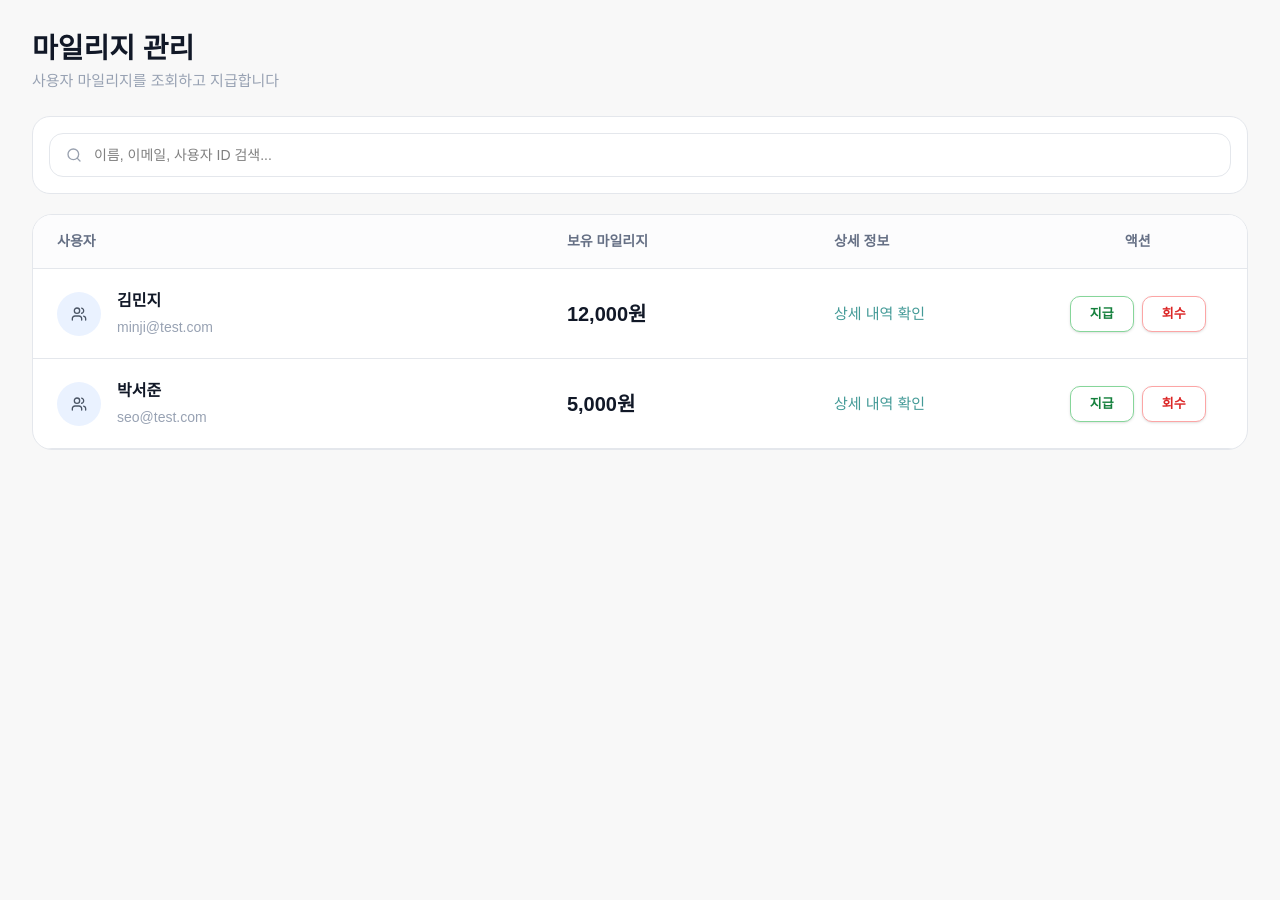
Test: PointManageClient 컴포넌트 테스트 › 지급 버튼을 누르면 마일리지 지급 모달이 열린다
Click the button "지급" in the row of "12,000": (1102, 314) 1070,296 -> 1134,332
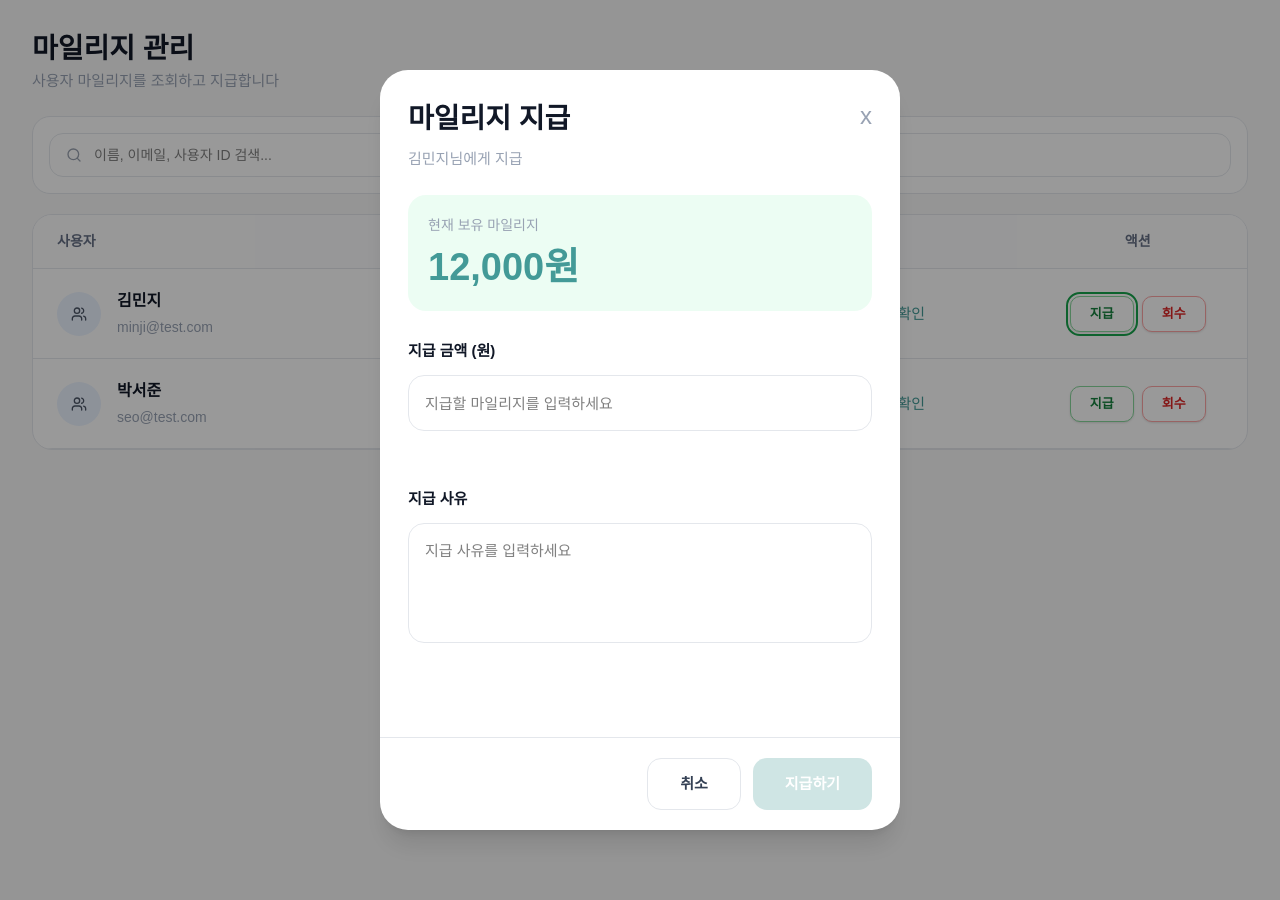
Now the dialog is shown
Now the heading "마일리지 지급" is shown, box 408,98 -> 570,140
Now the text "김민지님에게 지급" is shown, box 408,150 -> 523,167
